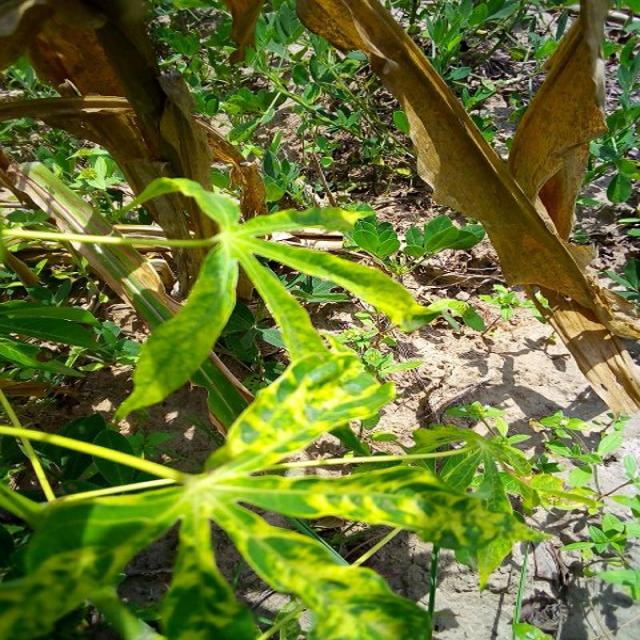cassava leaf: (113, 234, 240, 424)
